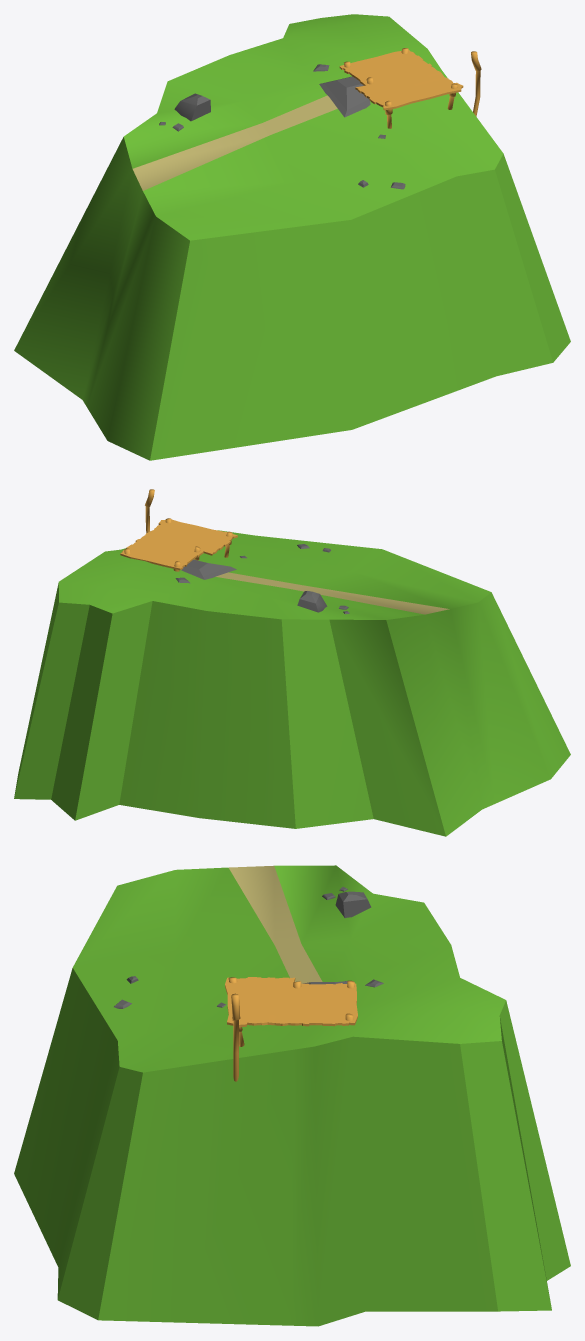
Rendered from Terreno.fbx.
The picture shows the model from 3 angles, top to bottom: view 1: azimuth 30°, elevation 25°; view 2: azimuth 150°, elevation 25°; view 3: azimuth 270°, elevation 25°; orthographic projection. The views are drawn at different scales.
Parts seen in each view (by area): view 1: Césped, SueloMadera; view 2: Césped, SueloMadera; view 3: Césped, SueloMadera, Palos.001.
Boxes of the visible parts, x1,y1,x2,y2 form: Césped: [14, 14, 570, 460]; SueloMadera: [339, 49, 463, 110]; Césped: [14, 530, 570, 836]; SueloMadera: [120, 519, 237, 570]; Césped: [14, 865, 570, 1326]; SueloMadera: [225, 977, 357, 1027]; Palos.001: [231, 993, 240, 1081].
Bounding box in the file's own units: 11855 × 6583 × 10786.
